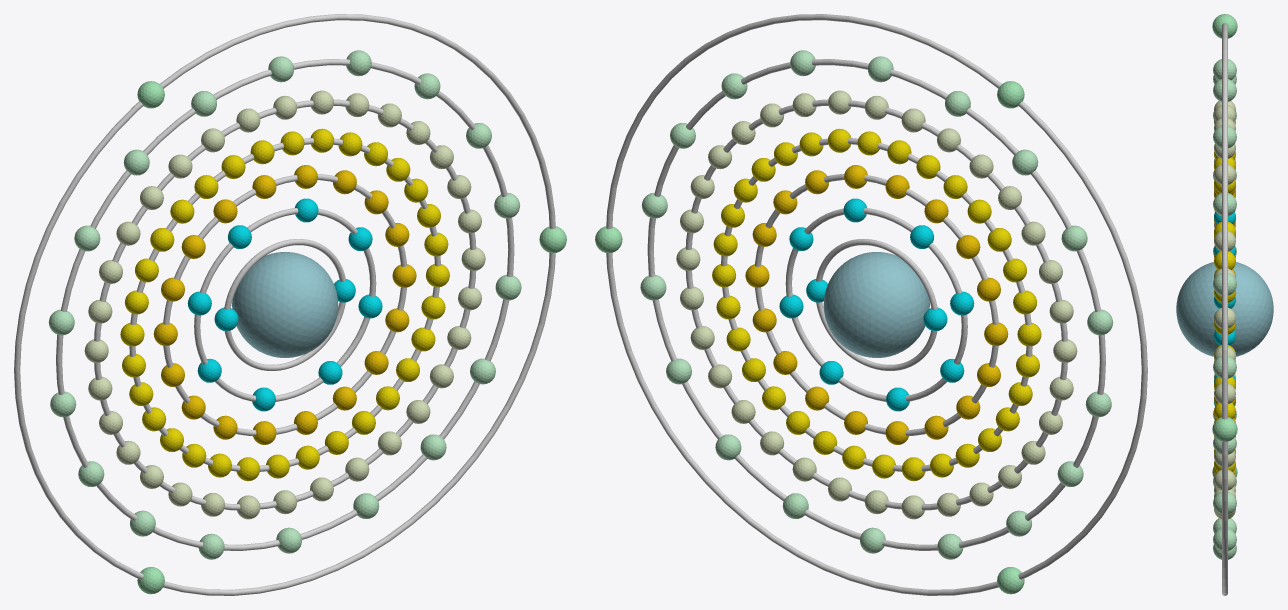
3 renders of one model, left to right at view 1: azimuth 30°, elevation 25°; view 2: azimuth 150°, elevation 25°; view 3: azimuth 270°, elevation 25°, orthographic. The views are drawn at different scales.
Parts seen in each view (by area): view 1: world; view 2: world; view 3: world.
Part boxes in pixels (<box>): world: <box>14,14,566,595</box>; world: <box>595,14,1147,595</box>; world: <box>1176,14,1273,595</box>.
Bounding box in the file's own units: 2.63 × 2.59 × 0.44.
